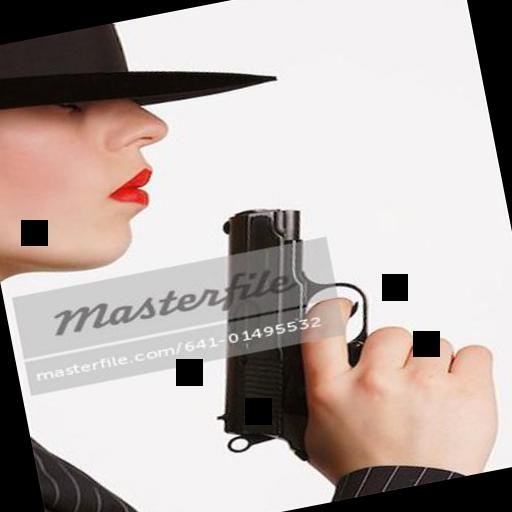Handgun: (160, 184, 426, 476)
